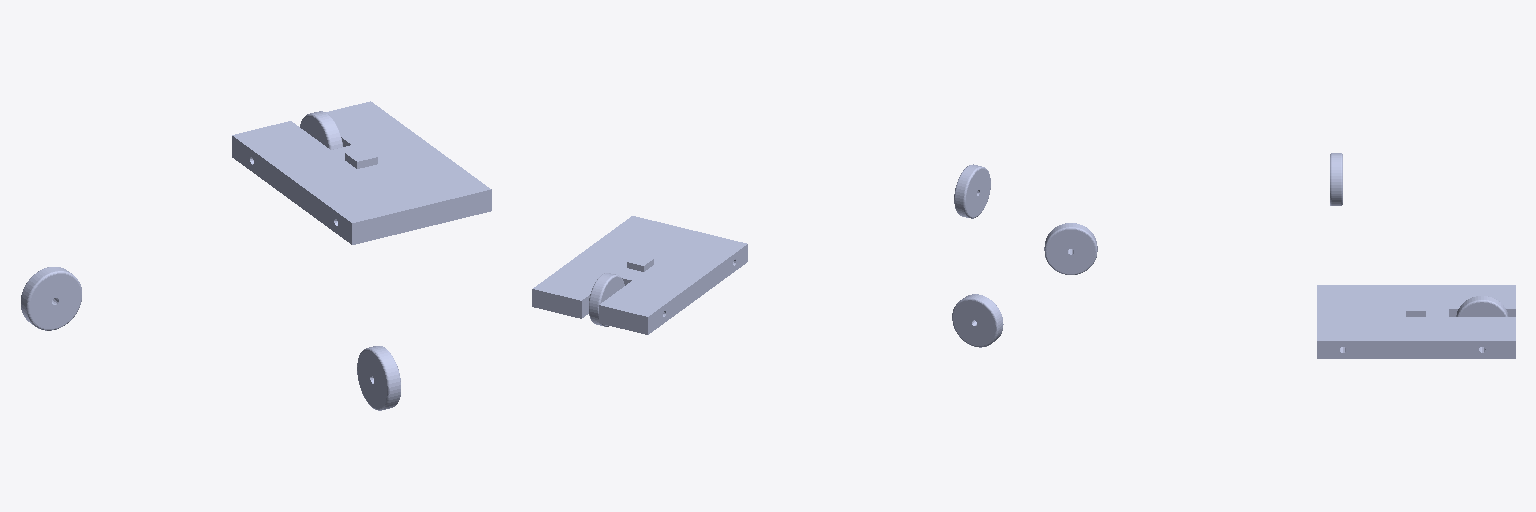
URDF robot description (assam):
<robot
  name="assam">
  <link
    name="base_link">
    <inertial>
      <origin
        xyz="0.00358608863369359 -0.0149621208311566 0.305093257484609"
        rpy="0 0 0" />
      <mass
        value="1.68994026795429" />
      <inertia
        ixx="0"
        ixy="0"
        ixz="0"
        iyy="0"
        iyz="0"
        izz="0" />
    </inertial>
    <visual>
      <origin
        xyz="0 0 0"
        rpy="0 0 0" />
      <geometry>
        <mesh
          filename="package://assam/meshes/base_link.STL" />
      </geometry>
      <material
        name="">
        <color
          rgba="0.792156862745098 0.819607843137255 0.933333333333333 1" />
      </material>
    </visual>
    <collision>
      <origin
        xyz="0 0 0"
        rpy="0 0 0" />
      <geometry>
        <mesh
          filename="package://assam/meshes/base_link.STL" />
      </geometry>
    </collision>
  </link>
  <link
    name="w1">
    <inertial>
      <origin
        xyz="-3.94649590784724E-17 0.21 -0.015"
        rpy="0 0 0" />
      <mass
        value="0.098005596771295" />
      <inertia
        ixx="0"
        ixy="0"
        ixz="0"
        iyy="0"
        iyz="0"
        izz="0" />
    </inertial>
    <visual>
      <origin
        xyz="0 0 0"
        rpy="0 0 0" />
      <geometry>
        <mesh
          filename="package://assam/meshes/w1.STL" />
      </geometry>
      <material
        name="">
        <color
          rgba="0.792156862745098 0.819607843137255 0.933333333333333 1" />
      </material>
    </visual>
    <collision>
      <origin
        xyz="0 0 0"
        rpy="0 0 0" />
      <geometry>
        <mesh
          filename="package://assam/meshes/w1.STL" />
      </geometry>
    </collision>
  </link>
  <joint
    name="j1"
    type="continuous">
    <origin
      xyz="0.0035861 -0.41 -6.8633E-05"
      rpy="-6.123E-17 0 0" />
    <parent
      link="base_link" />
    <child
      link="w1" />
    <axis
      xyz="1 0 0" />
  </joint>
  <link
    name="w2">
    <inertial>
      <origin
        xyz="-0.115 5.55111512312578E-17 -0.015"
        rpy="0 0 0" />
      <mass
        value="0.098005596771295" />
      <inertia
        ixx="0"
        ixy="0"
        ixz="0"
        iyy="0"
        iyz="0"
        izz="0" />
    </inertial>
    <visual>
      <origin
        xyz="0 0 0"
        rpy="0 0 0" />
      <geometry>
        <mesh
          filename="package://assam/meshes/w2.STL" />
      </geometry>
      <material
        name="">
        <color
          rgba="0.792156862745098 0.819607843137255 0.933333333333333 1" />
      </material>
    </visual>
    <collision>
      <origin
        xyz="0 0 0"
        rpy="0 0 0" />
      <geometry>
        <mesh
          filename="package://assam/meshes/w2.STL" />
      </geometry>
    </collision>
  </link>
  <joint
    name="j2"
    type="revolute">
    <origin
      xyz="0.0035861 -0.41 -6.8633E-05"
      rpy="-6.123E-17 0 0" />
    <parent
      link="base_link" />
    <child
      link="w2" />
    <axis
      xyz="1 0 0" />
    <limit
      effort="0"
      velocity="0" />
  </joint>
  <link
    name="w3">
    <inertial>
      <origin
        xyz="0.115 0 -0.015"
        rpy="0 0 0" />
      <mass
        value="0.098005596771295" />
      <inertia
        ixx="0"
        ixy="0"
        ixz="0"
        iyy="0"
        iyz="0"
        izz="0" />
    </inertial>
    <visual>
      <origin
        xyz="0 0 0"
        rpy="0 0 0" />
      <geometry>
        <mesh
          filename="package://assam/meshes/w3.STL" />
      </geometry>
      <material
        name="">
        <color
          rgba="0.792156862745098 0.819607843137255 0.933333333333333 1" />
      </material>
    </visual>
    <collision>
      <origin
        xyz="0 0 0"
        rpy="0 0 0" />
      <geometry>
        <mesh
          filename="package://assam/meshes/w3.STL" />
      </geometry>
    </collision>
  </link>
  <joint
    name="j3"
    type="revolute">
    <origin
      xyz="0.00358608863369358 -0.41 -6.86334715221801E-05"
      rpy="-6.12303176911189E-17 0 0" />
    <parent
      link="base_link" />
    <child
      link="w3" />
    <axis
      xyz="1 0 0" />
  </joint>
</robot>

--- What the picture shows (computed from the rendered views, not written in the file) ---
3 views of the same robot in one strip: view 1: azimuth 30°, elevation 25°; view 2: azimuth 150°, elevation 25°; view 3: azimuth 270°, elevation 25° (orthographic).
Robot: assam — 4 links, 3 joints (2 revolute, 1 continuous); root link base_link; default pose: every joint at zero.
Visible links, largest first — view 1: base_link, w2, w3, w1; view 2: base_link, w2, w3, w1; view 3: base_link, w3, w1, w2.
Boxes of the visible links, x1=… form: base_link: x1=232, y1=101, x2=491, y2=244; w2: x1=21, y1=267, x2=81, y2=330; w3: x1=357, y1=346, x2=400, y2=410; w1: x1=300, y1=111, x2=342, y2=149; base_link: x1=532, y1=216, x2=747, y2=334; w2: x1=952, y1=294, x2=1003, y2=347; w3: x1=954, y1=164, x2=990, y2=218; w1: x1=589, y1=273, x2=624, y2=326; base_link: x1=1317, y1=285, x2=1515, y2=358; w3: x1=1044, y1=223, x2=1097, y2=274; w1: x1=1456, y1=296, x2=1508, y2=316; w2: x1=1330, y1=153, x2=1342, y2=205.
Bounding box of the posed robot: 0.655 × 0.7101 × 0.087 m (x, y, z).
Meshes: 4 distinct files referenced, 4 mesh visuals loaded (4 binary STL).